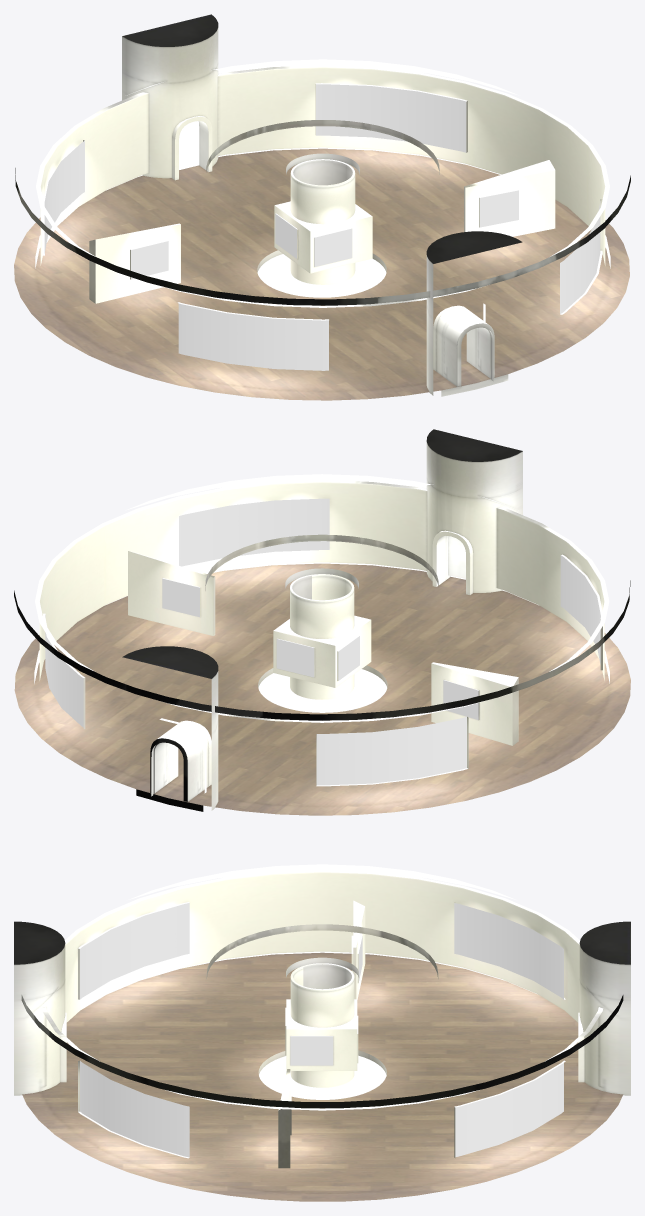
Rendered from house-2.glb.
3 renders of one model, top to bottom at view 1: azimuth 30°, elevation 25°; view 2: azimuth 150°, elevation 25°; view 3: azimuth 270°, elevation 25°, orthographic.
Parts seen in each view (by area): view 1: floor_001, Tube004__0, Flat_012, Flat_002, Flat_007, Flat_010, Flat_011, Flat_003, Flat_009, Flat_006; view 2: floor_001, Tube004__0, Flat_007, Flat_010, Flat_012, Flat_002, Flat_004, Flat_001, Flat_008, Flat_006; view 3: floor_001, Tube004__0, Flat_012, Flat_010, Flat_007, Flat_002, Flat_005.
Boxes of the visible parts, x1,y1,x2,y2 form: floor_001: (14,148,629,400); Tube004__0: (15,14,630,396); Flat_012: (178,303,328,370); Flat_002: (316,84,466,152); Flat_007: (44,141,84,253); Flat_010: (560,201,600,313); Flat_011: (479,190,518,227); Flat_003: (314,228,352,267); Flat_009: (131,241,168,279); Flat_006: (275,214,296,258); floor_001: (14,563,630,815); Tube004__0: (14,429,630,811); Flat_007: (316,717,466,785); Flat_010: (179,498,329,566); Flat_012: (560,555,600,664); Flat_002: (45,615,83,727); Flat_004: (276,639,314,677); Flat_001: (162,578,199,617); Flat_008: (443,680,478,719); Flat_006: (338,636,359,680); floor_001: (22,952,623,1201); Tube004__0: (14,864,630,1168); Flat_012: (80,903,189,999); Flat_010: (80,1061,189,1157); Flat_007: (454,903,563,999); Flat_002: (455,1063,563,1157); Flat_005: (290,1036,333,1065).
Size of the model in its own units: 27.24 by 6.74 by 27.51.
13 materials, 1 textured.
